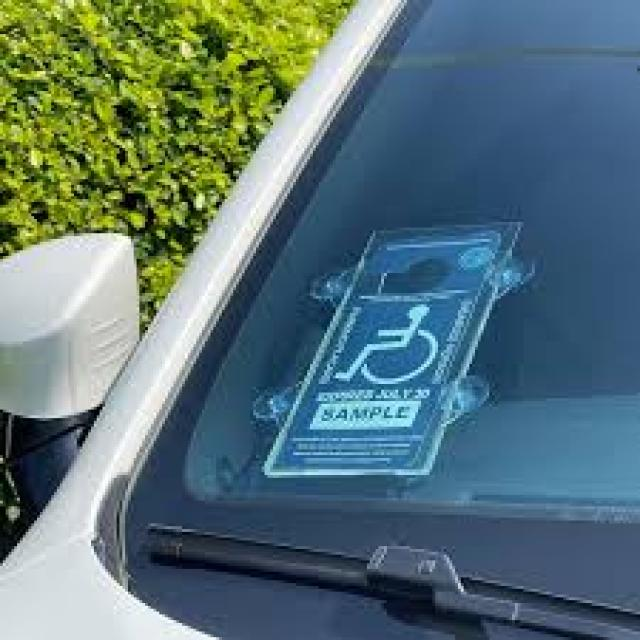car-handicap-placard: (336, 304, 440, 386)
